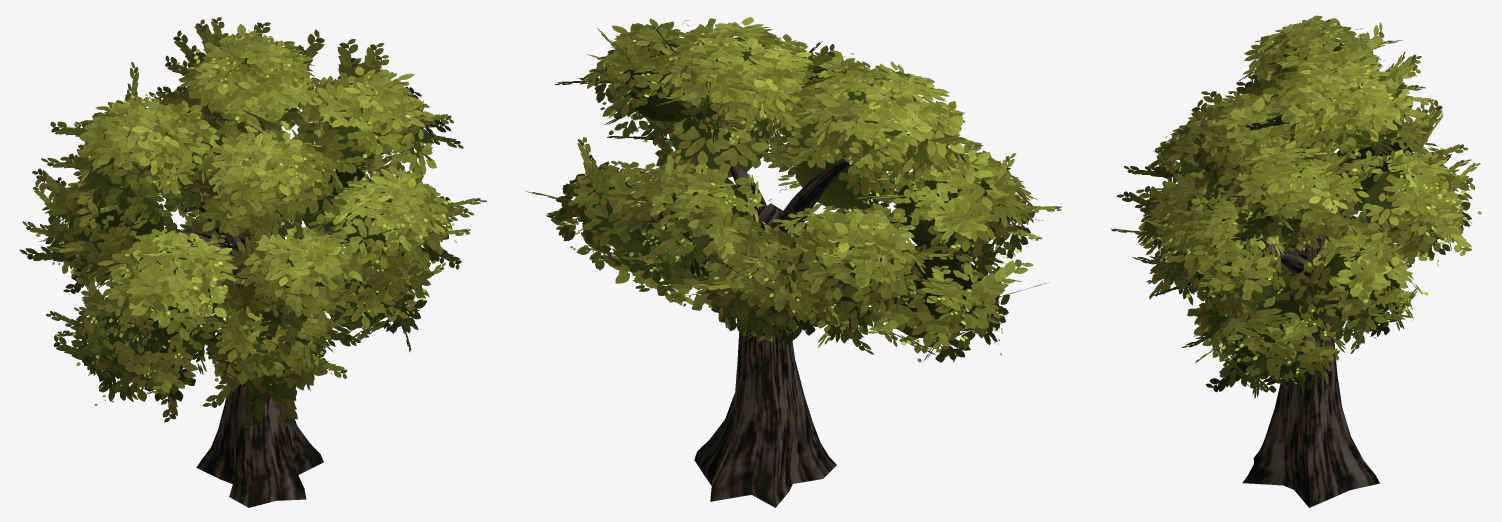
Rendered from CreTree04.glb.
3 renders of one model, left to right at view 1: azimuth 30°, elevation 25°; view 2: azimuth 150°, elevation 25°; view 3: azimuth 270°, elevation 25°, orthographic. The views are drawn at different scales.
Parts seen in each view (by area): view 1: CreTree04_leaves; view 2: CreTree04_leaves; view 3: CreTree04_leaves.
Boxes of the visible parts, x1=… form: CreTree04_leaves: x1=20, y1=17, x2=486, y2=507; CreTree04_leaves: x1=526, y1=17, x2=1061, y2=507; CreTree04_leaves: x1=1111, y1=15, x2=1481, y2=507.
Size of the model in its own units: 8.21 by 8.25 by 6.75.
3 materials, 2 textured.
